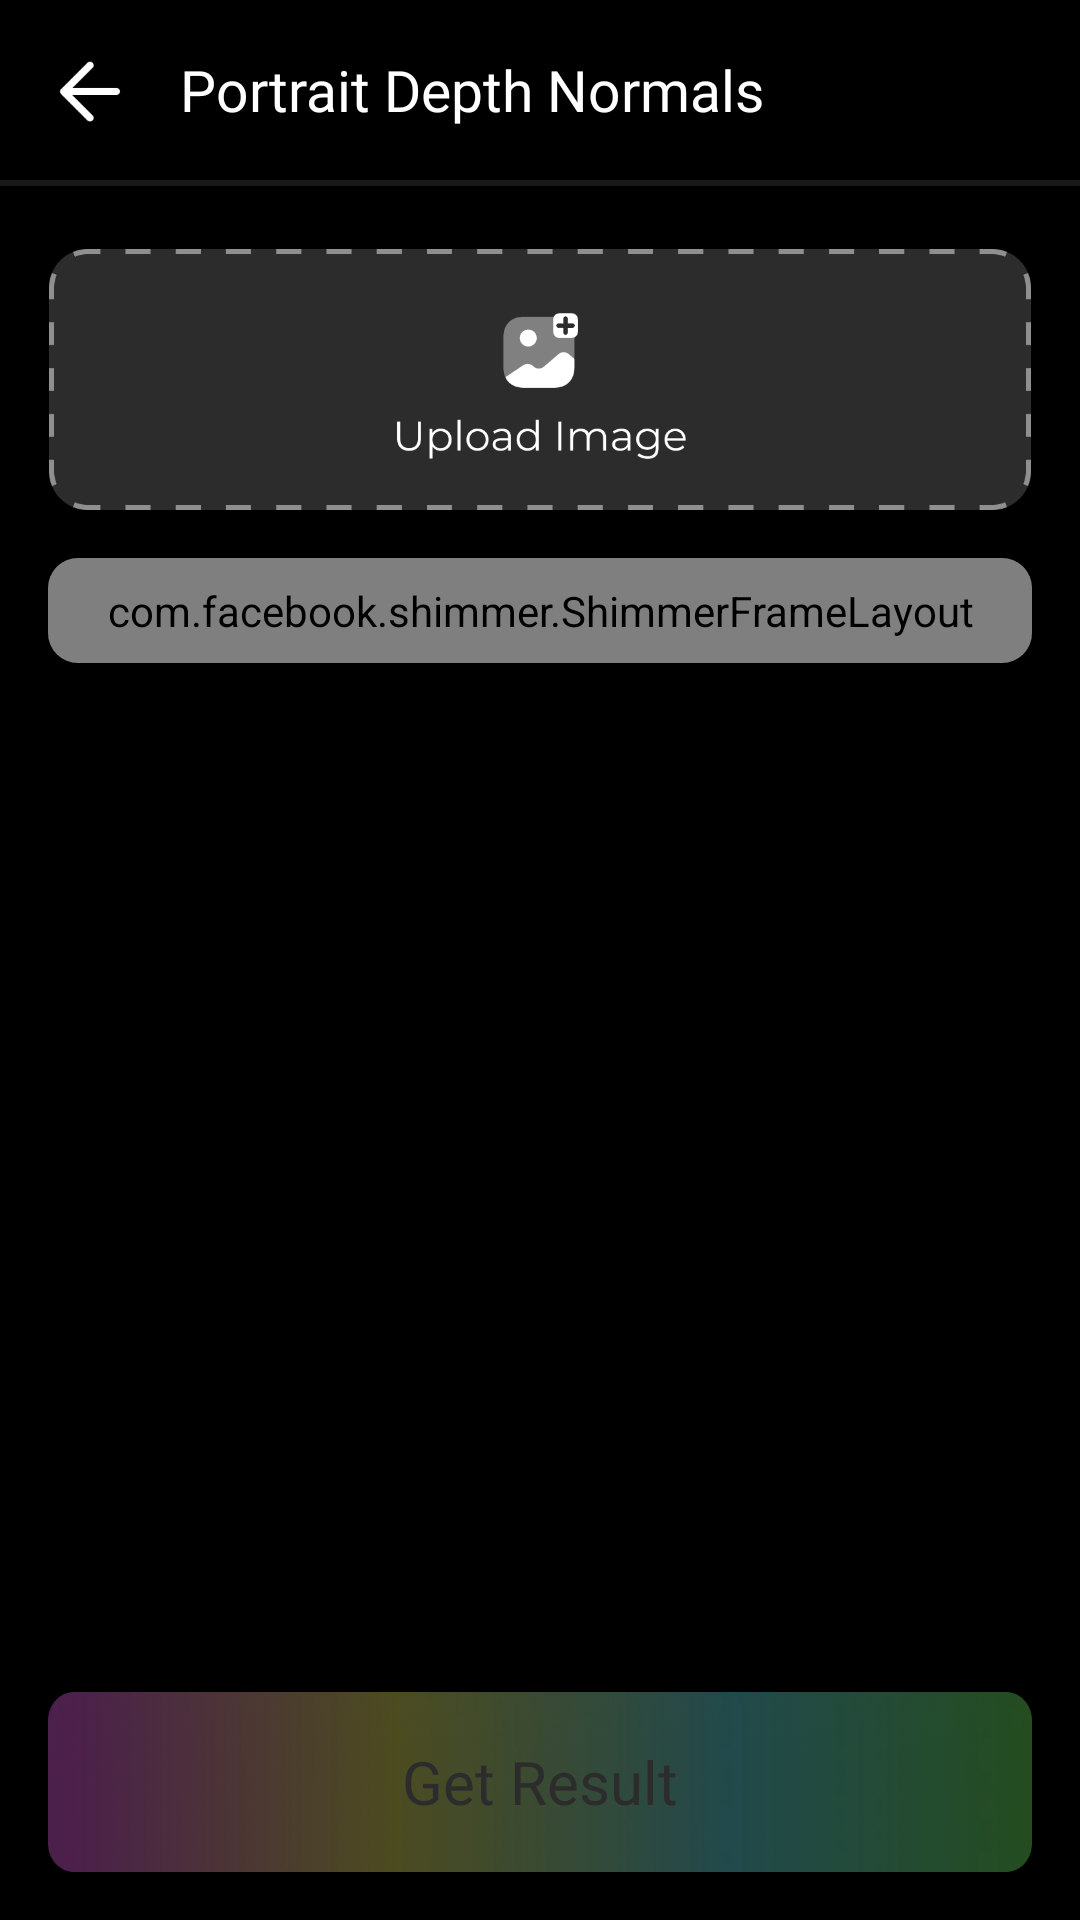

Where to tap for icons on this 1080x1920 app screen, as (x=x, y=y):
back: (x=90, y=91)
